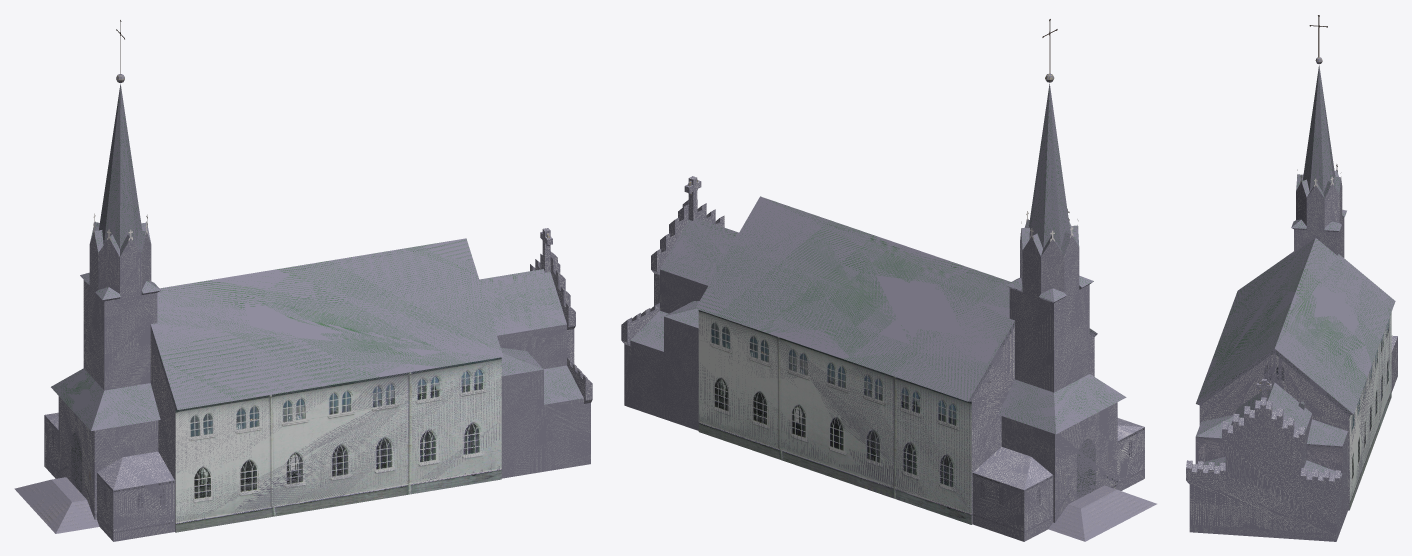
Rendered from church.fbx.
3 renders of one model, left to right at view 1: azimuth 30°, elevation 25°; view 2: azimuth 150°, elevation 25°; view 3: azimuth 270°, elevation 25°, orthographic. The views are drawn at different scales.
Visible parts, largest first — view 1: Model; view 2: Model; view 3: Model.
Boxes of the visible parts, bbox=[...] form: Model: bbox=[14, 20, 592, 541]; Model: bbox=[621, 19, 1156, 541]; Model: bbox=[1186, 15, 1397, 541].
Bounding box in the file's own units: 36.32 × 33.22 × 17.2.
